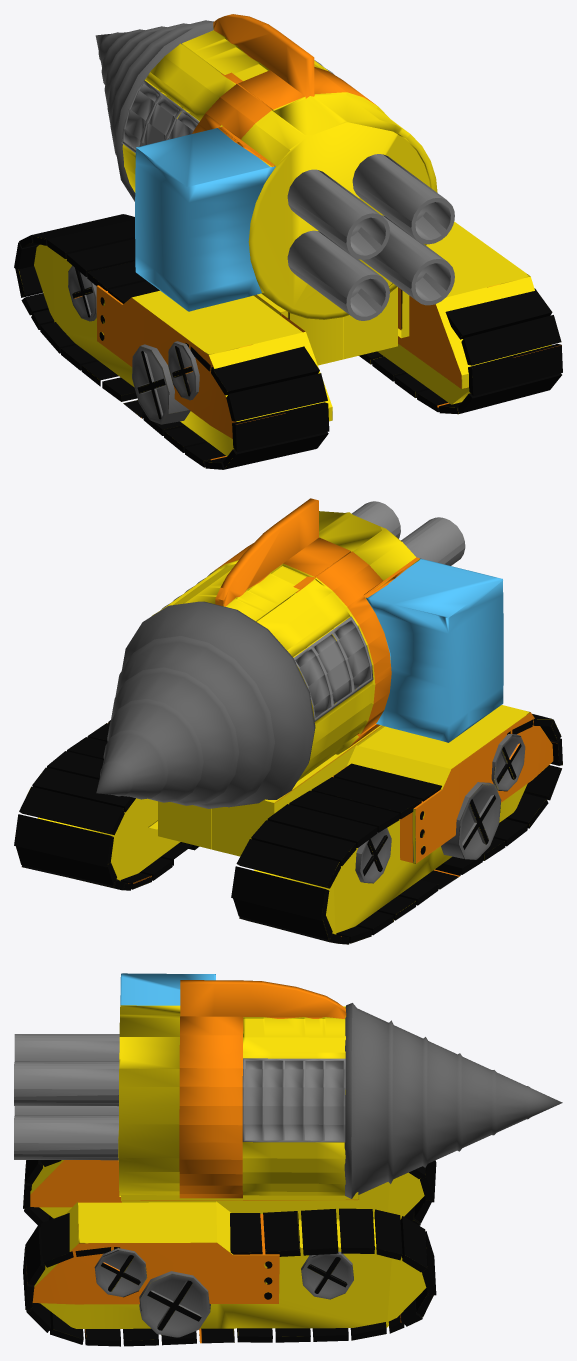
Rendered from Esbadora_Cono_Destruido.fbx.
The picture shows the model from 3 angles, top to bottom: view 1: azimuth 30°, elevation 25°; view 2: azimuth 150°, elevation 25°; view 3: azimuth 270°, elevation 25°; orthographic projection. The views are drawn at different scales.
Parts seen in each view (by area): view 1: Llanta.006, Cube.028, Llanta.003, Cube.054, Cube.048, Drill_Ozamanas.007, Cube.050, Cube.023, Cube.053, Cube.052; view 2: Llanta.006, Drill_Ozamanas.007, Cube.028, Cube.054, Llanta.003, Cube.048, Cube.023, Cube.050; view 3: Llanta.003, Cube.048, Drill_Ozamanas.007, Llanta.006, Cube.052, Cube.050, Cube.023, Cube.054, Cube.028, Cube.053.
Boxes of the visible parts, x1,y1,x2,y2 form: Llanta.006: [14, 214, 332, 469]; Cube.028: [121, 43, 429, 365]; Llanta.003: [359, 221, 562, 414]; Cube.054: [135, 128, 275, 311]; Cube.048: [182, 14, 437, 292]; Drill_Ozamanas.007: [95, 20, 213, 201]; Cube.050: [352, 154, 454, 244]; Cube.023: [287, 169, 389, 259]; Cube.053: [287, 230, 389, 320]; Cube.052: [361, 215, 454, 305]; Llanta.006: [231, 705, 562, 944]; Drill_Ozamanas.007: [96, 601, 315, 808]; Cube.028: [158, 527, 420, 856]; Cube.054: [366, 558, 503, 742]; Llanta.003: [14, 720, 199, 890]; Cube.048: [152, 498, 381, 621]; Cube.023: [401, 517, 465, 565]; Cube.050: [352, 501, 400, 538]; Llanta.003: [23, 1199, 436, 1346]; Cube.048: [118, 980, 346, 1198]; Drill_Ozamanas.007: [344, 1003, 562, 1198]; Llanta.006: [23, 1160, 436, 1226]; Cube.052: [14, 1116, 118, 1160]; Cube.050: [14, 1062, 119, 1106]; Cube.023: [14, 1034, 119, 1061]; Cube.054: [120, 973, 215, 1005]; Cube.028: [120, 1005, 359, 1201]; Cube.053: [14, 1106, 118, 1115].
Bounding box in the file's own units: 787 × 754 × 1273.
